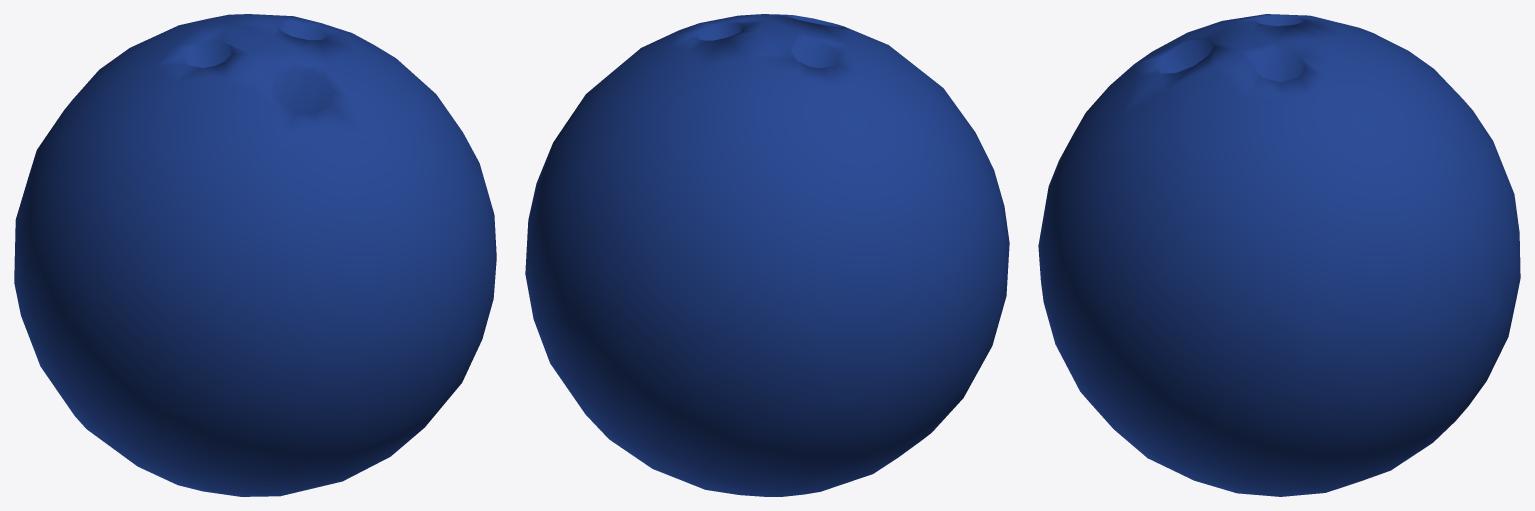
File: BowlingBall.fbx
3 views of the same model, side by side, from view 1: azimuth 30°, elevation 25°; view 2: azimuth 150°, elevation 25°; view 3: azimuth 270°, elevation 25° (orthographic).
Parts seen in each view (by area): view 1: BowlingBall; view 2: BowlingBall; view 3: BowlingBall.
Boxes of the visible parts, x1=… form: BowlingBall: x1=14, y1=14, x2=496, y2=496; BowlingBall: x1=525, y1=14, x2=1009, y2=496; BowlingBall: x1=1038, y1=14, x2=1520, y2=496.
Bounding box in the file's own units: 21.8 × 21.8 × 21.79.
